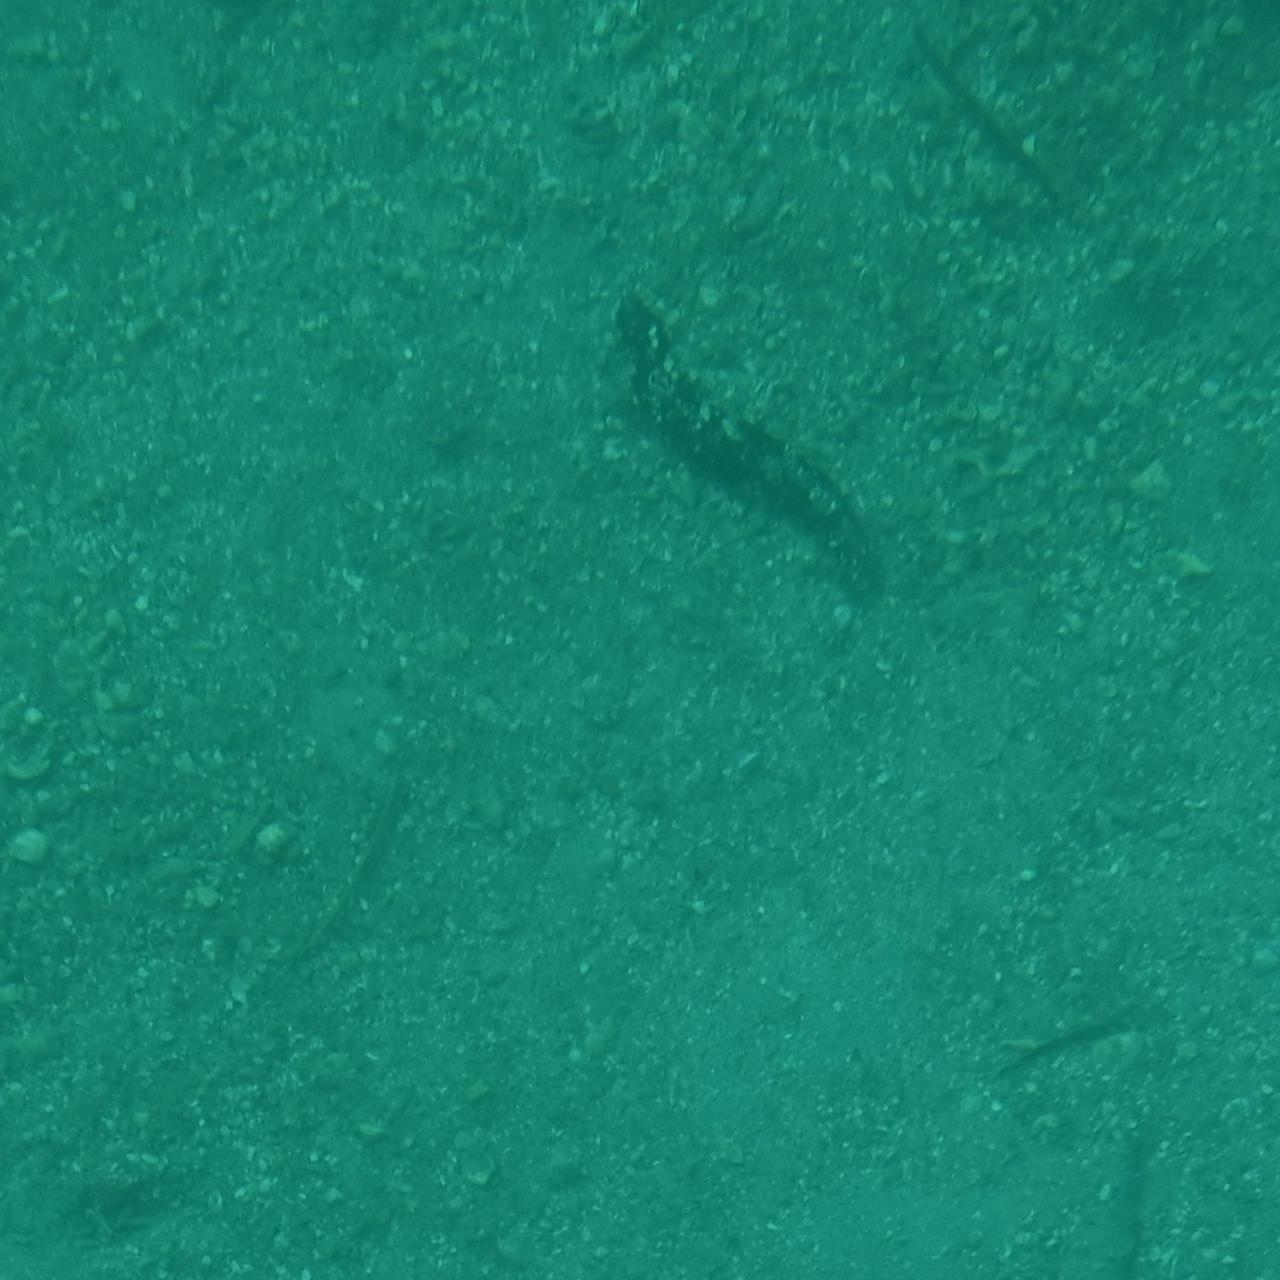Holothuria tubulosa: (574, 300, 890, 622), (1131, 25, 1280, 389), (1115, 873, 1280, 1193), (165, 1043, 363, 1280), (896, 1111, 1164, 1280), (0, 0, 297, 83), (1107, 1148, 1280, 1280), (0, 224, 184, 346), (1191, 0, 1280, 244), (0, 0, 198, 108), (1171, 0, 1280, 176)
